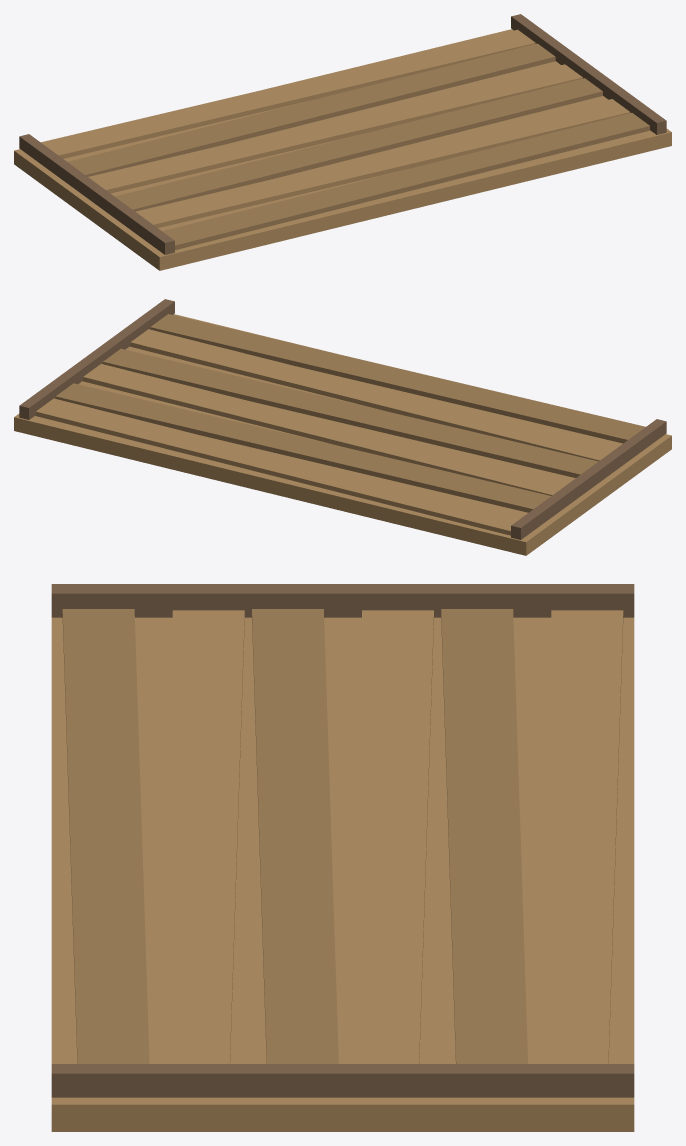
File: track_wood_3lane.glb
The picture shows the model from 3 angles, top to bottom: view 1: azimuth 30°, elevation 25°; view 2: azimuth 150°, elevation 25°; view 3: azimuth 270°, elevation 25°; orthographic projection. The views are drawn at different scales.
Visible parts, largest first — view 1: track_wood_3lane; view 2: track_wood_3lane; view 3: track_wood_3lane.
Part boxes in pixels (left/top/right/bottom): track_wood_3lane: left=14, top=14, right=671, bottom=270; track_wood_3lane: left=14, top=299, right=671, bottom=555; track_wood_3lane: left=51, top=584, right=634, bottom=1131.
Size of the model in its own units: 6.25 by 0.31 by 3.08.
